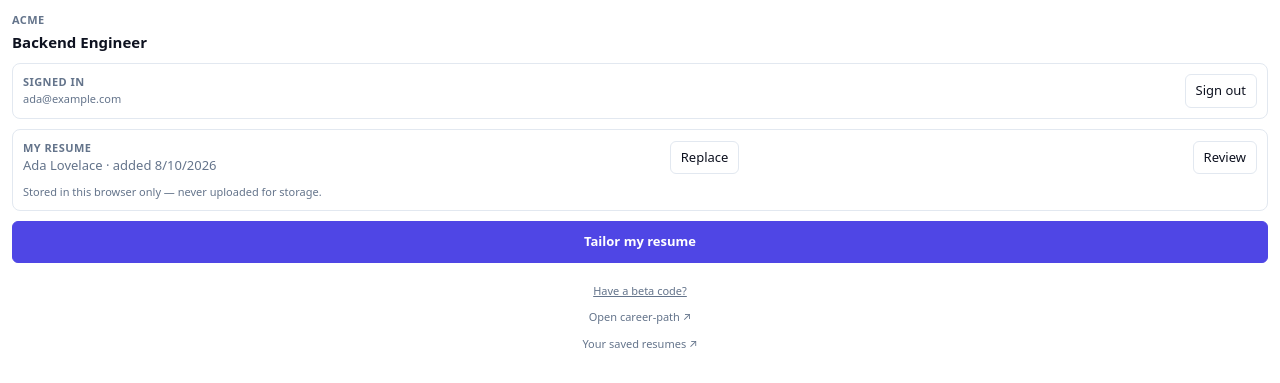
Test: App - account bar, sign-out, and session handling › does not offer the exhausted-trial sign-in CTA to a caller who is already signed in
What coordinates should you click on to do the following:
click the button "Tailor my resume"
I would click on:
 (640, 242)
Its box is [12,221,1268,262].
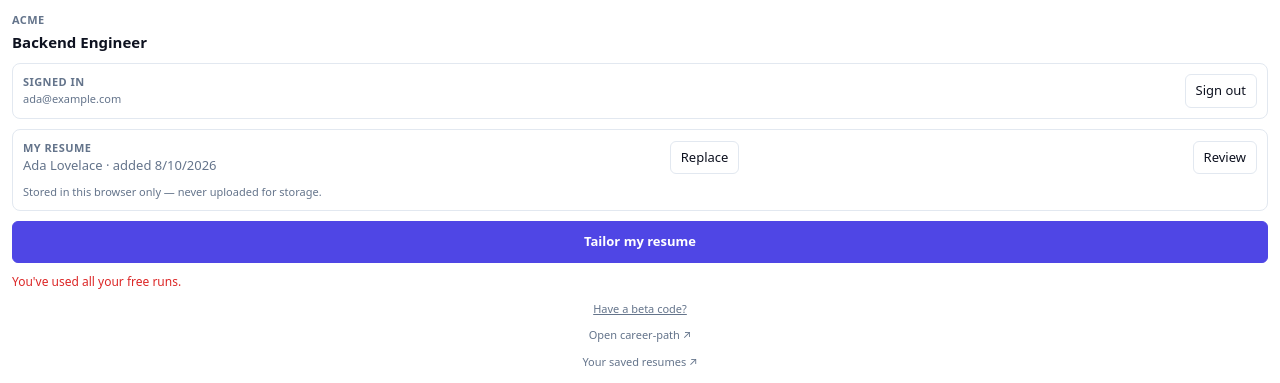
Now the text "You've used all your free runs." is shown, box [12,272,181,290]
